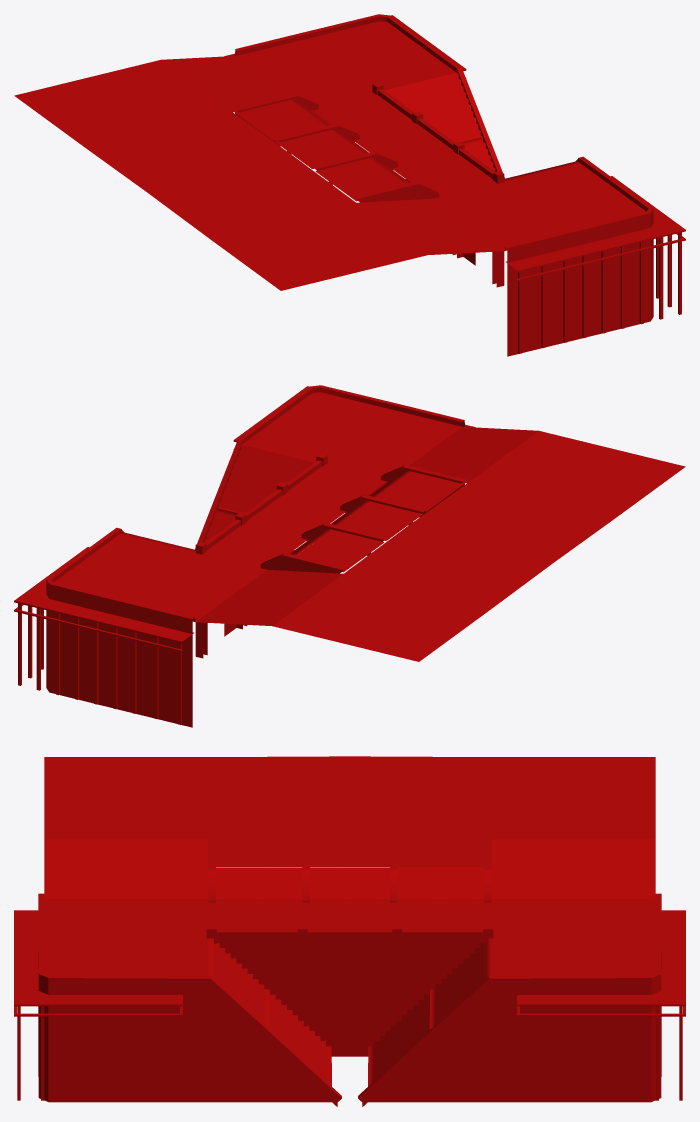
File: kontor_01_platform_lod0.glb
3 renders of one model, top to bottom at view 1: azimuth 30°, elevation 25°; view 2: azimuth 150°, elevation 25°; view 3: azimuth 270°, elevation 25°, orthographic. The views are drawn at different scales.
Parts seen in each view (by area): view 1: MODEL_kontor_03_platform_lod0; view 2: MODEL_kontor_03_platform_lod0; view 3: MODEL_kontor_03_platform_lod0.
Boxes of the visible parts, bbox=[...] form: MODEL_kontor_03_platform_lod0: bbox=[14, 14, 685, 356]; MODEL_kontor_03_platform_lod0: bbox=[14, 385, 685, 727]; MODEL_kontor_03_platform_lod0: bbox=[14, 756, 685, 1106].
Bounding box in the file's own units: 5 × 1.57 × 6.48.
